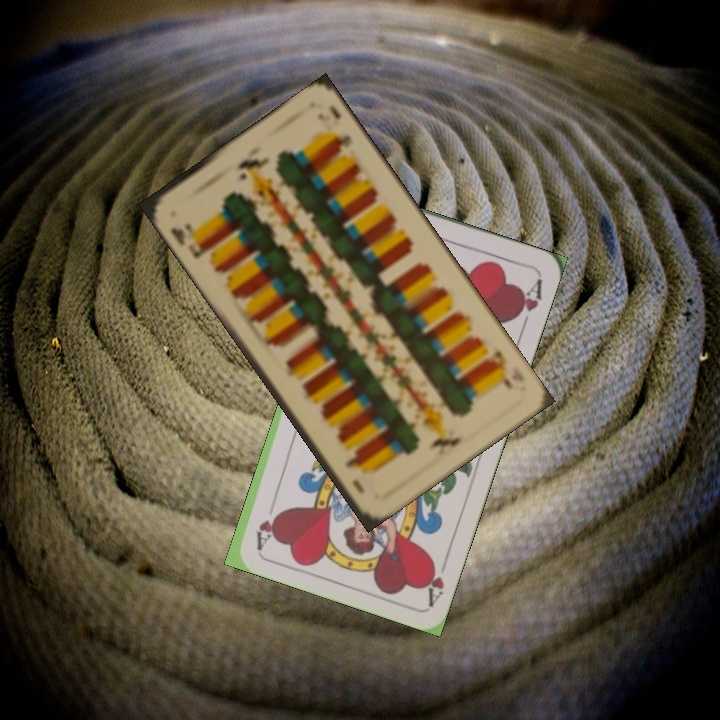E10: (166, 218, 212, 262), (483, 346, 515, 393)
HA: (419, 549, 452, 607)
